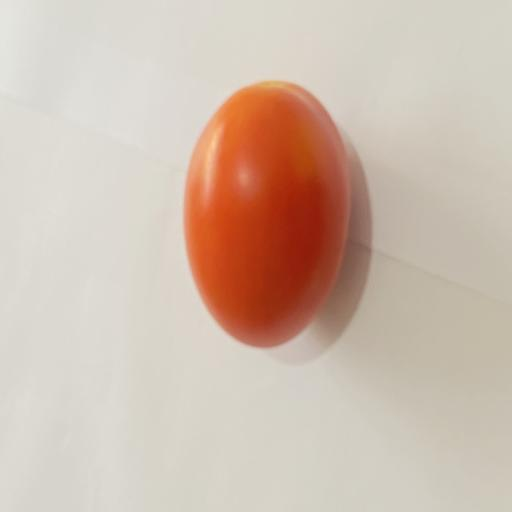ripe: (184, 82, 350, 346)
